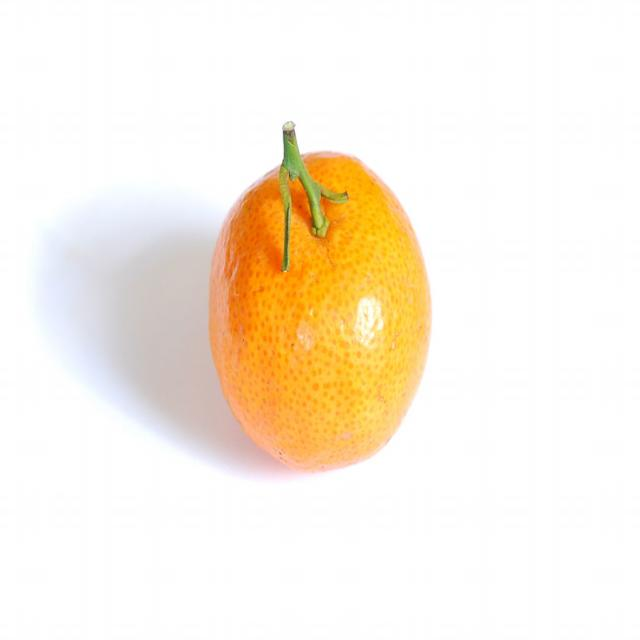Orange: (208, 120, 437, 478)
